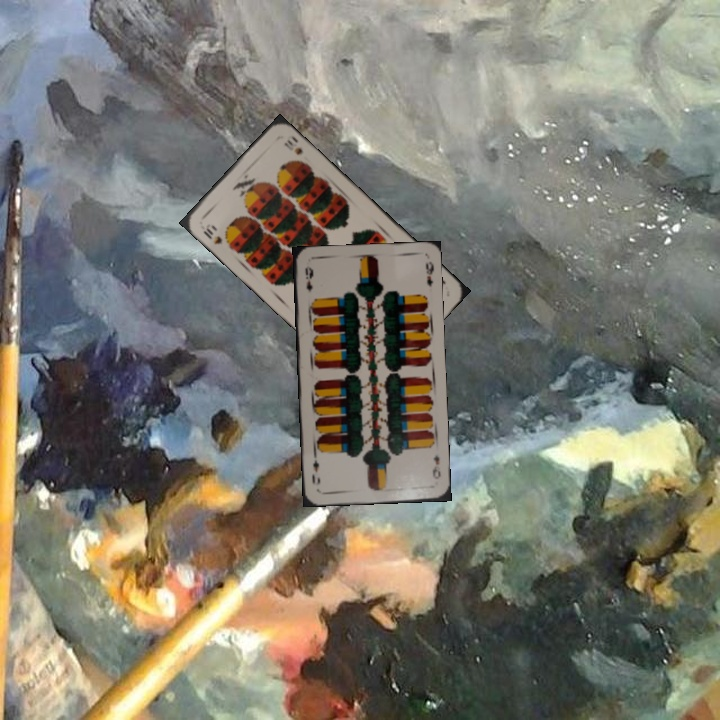E9: (301, 262, 316, 294), (428, 452, 443, 482)
S10: (199, 220, 225, 247)
